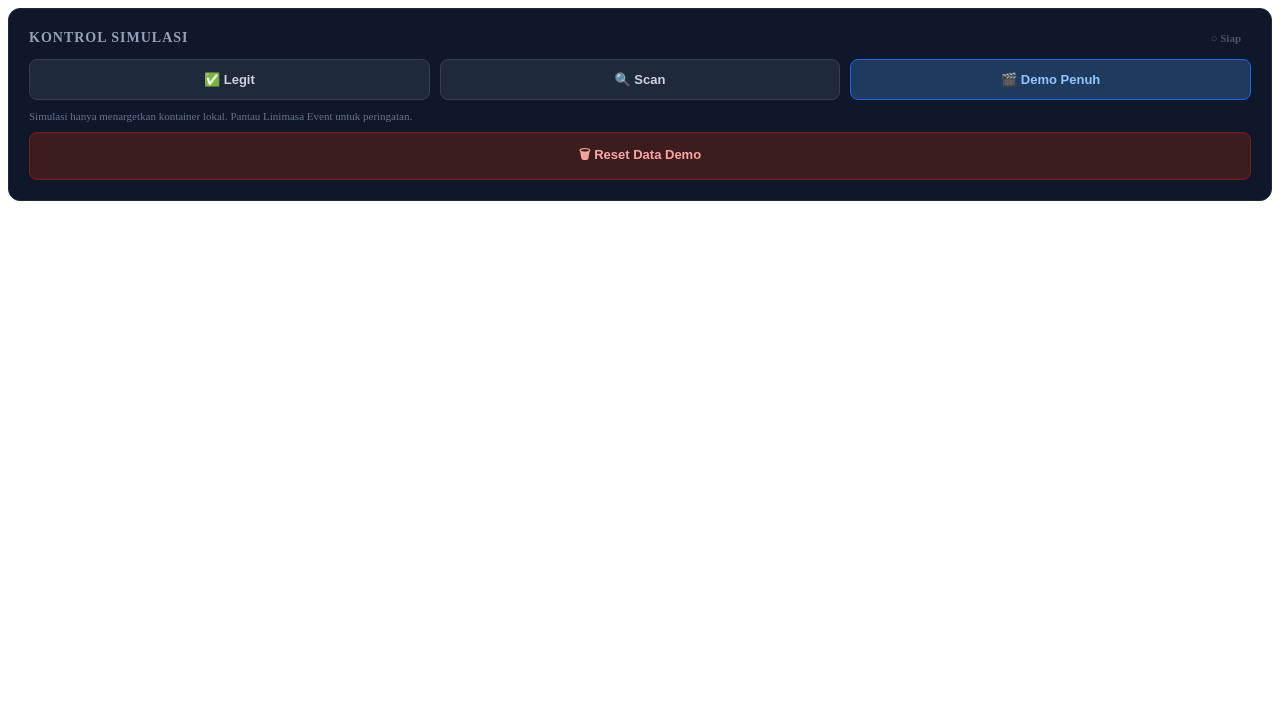
Test case: SimPanel › shows a confirmation dialog when Reset Data Demo is clicked
Step 1. Click the button "🗑 Reset Data Demo" → (640,156), box [29,132,1251,180]
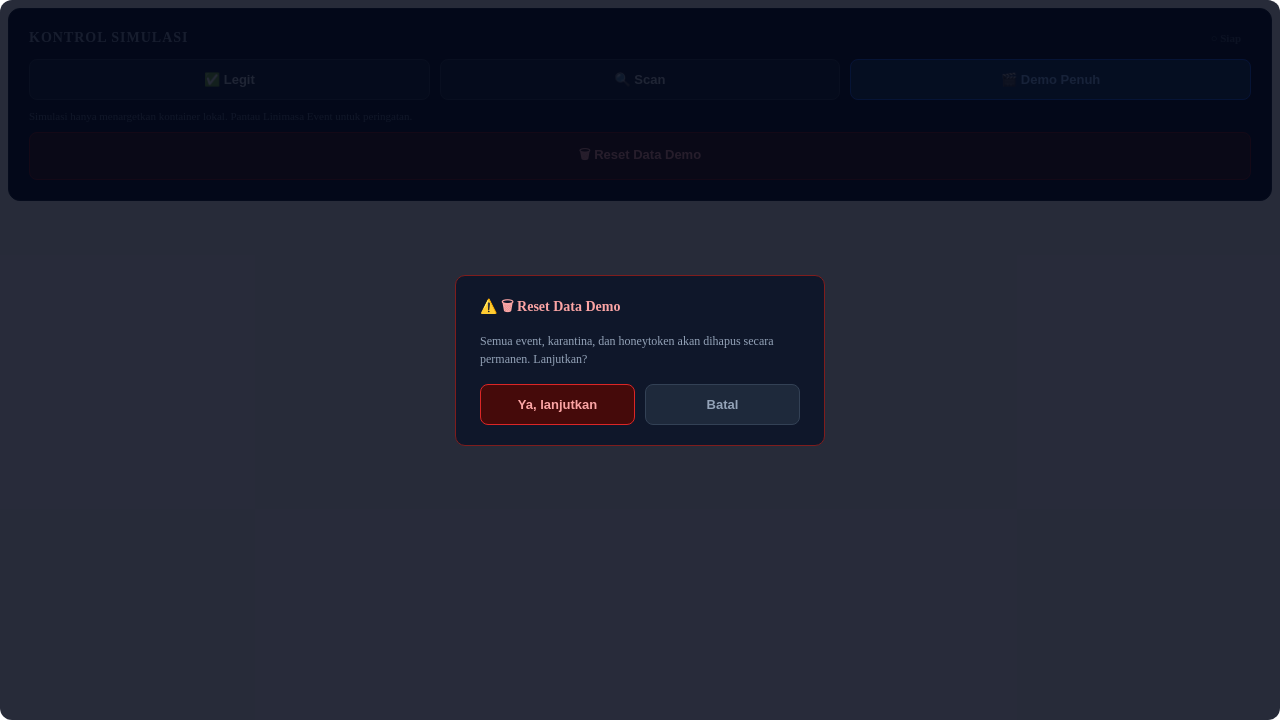
expect the button "Ya, lanjutkan" is shown: met, box [480,384,635,424]
expect the text "dihapus secara permanen" is shown: met, box [480,334,774,366]
